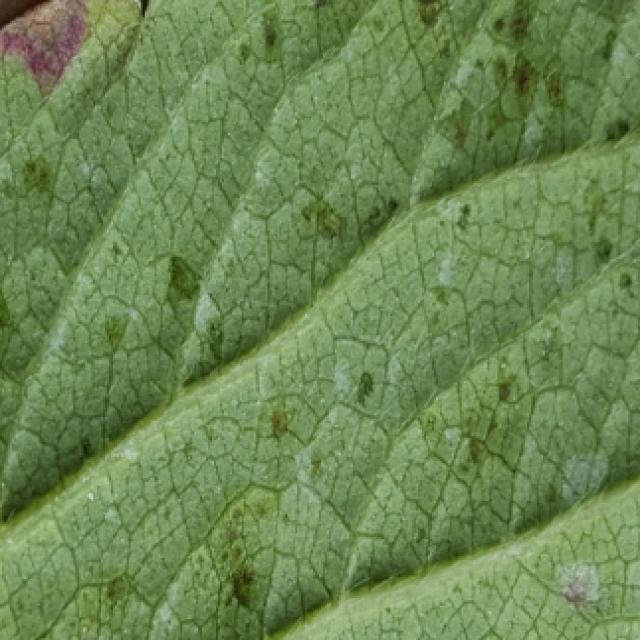Angular Leafspot: (0, 0, 640, 640)
